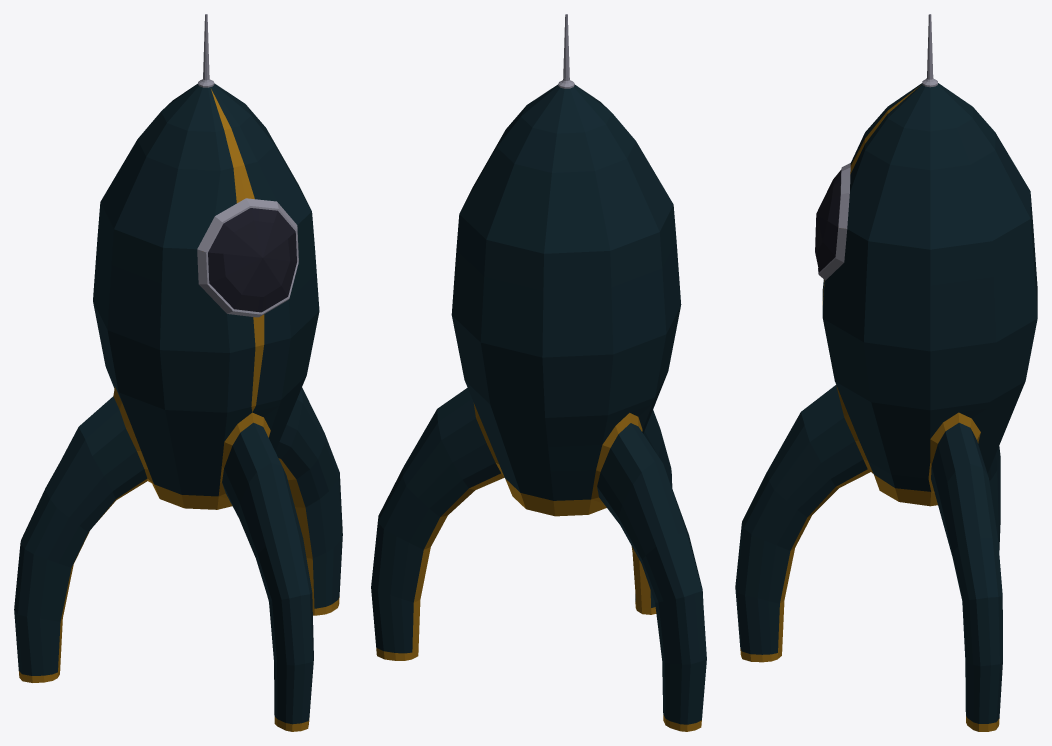
The model's file is CCC_Rocket_Big_01.fbx.
3 renders of one model, left to right at view 1: azimuth 30°, elevation 25°; view 2: azimuth 150°, elevation 25°; view 3: azimuth 270°, elevation 25°, orthographic. The views are drawn at different scales.
Visible parts, largest first — view 1: CCC_Rocket_Big_01; view 2: CCC_Rocket_Big_01; view 3: CCC_Rocket_Big_01.
Boxes of the visible parts, x1,y1,x2,y2 form: CCC_Rocket_Big_01: (14,14,342,731); CCC_Rocket_Big_01: (371,14,706,731); CCC_Rocket_Big_01: (735,14,1037,731).
Size of the model in its own units: 13.96 by 26.51 by 11.32.
